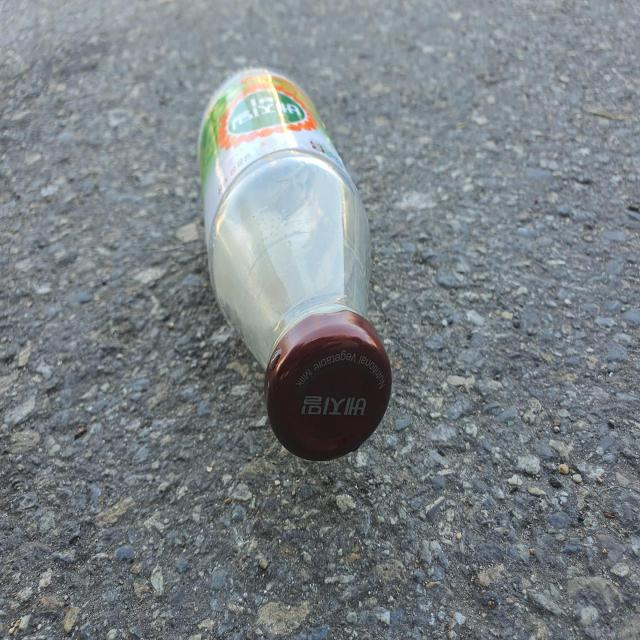glass: (199, 68, 392, 461)
